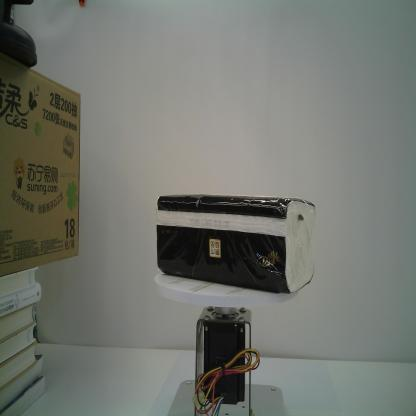Tissue: (155, 193, 316, 295)
